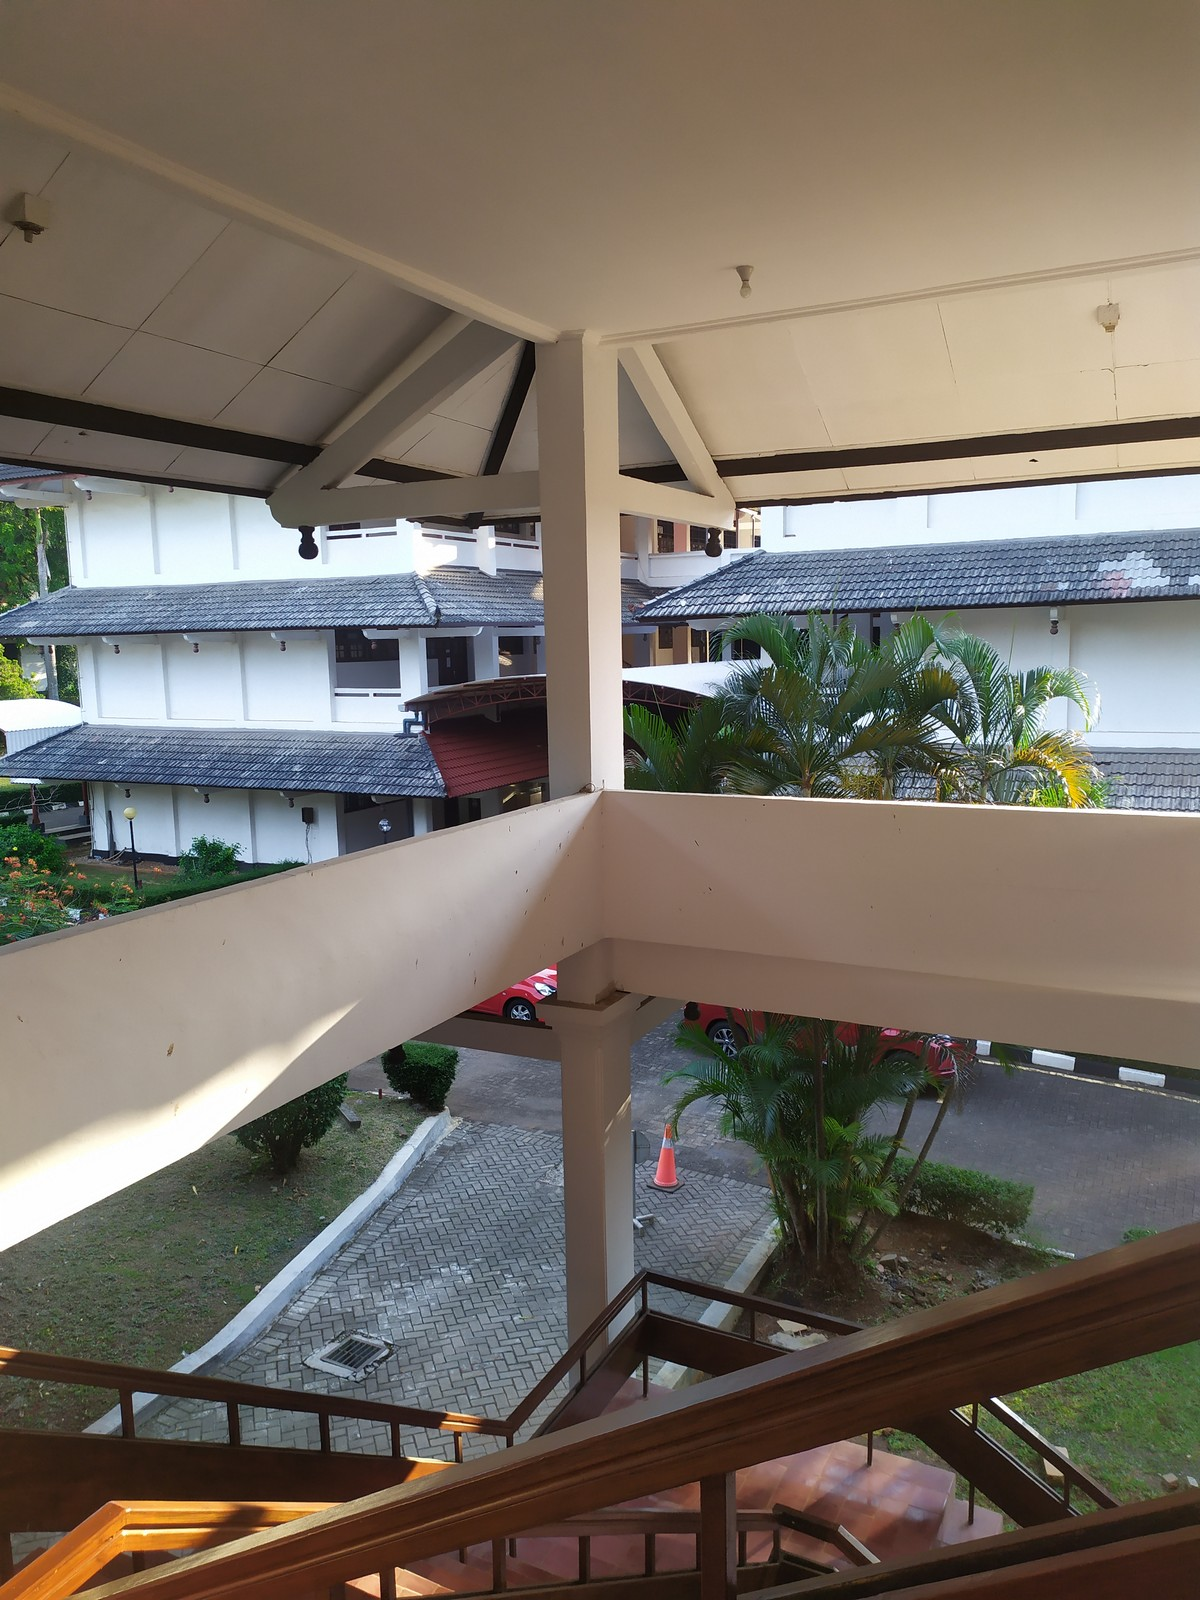concrete beam: (342, 469, 556, 530)
concrete column: (536, 307, 639, 825), (546, 973, 650, 1385)
